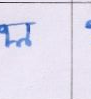o_matra: (22, 15, 33, 46)
